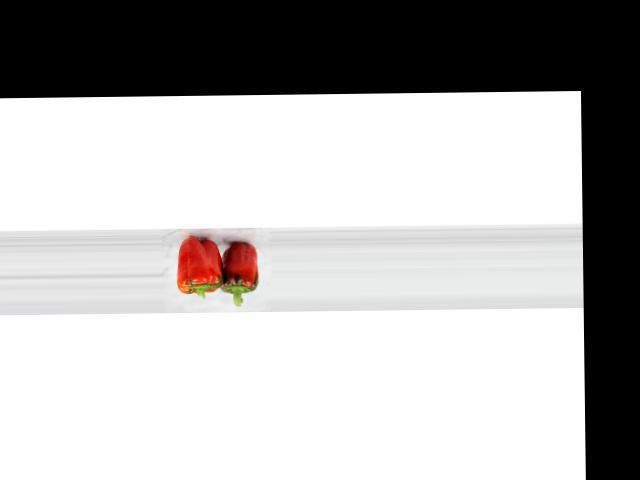bell_pepper: (169, 236, 221, 302)
